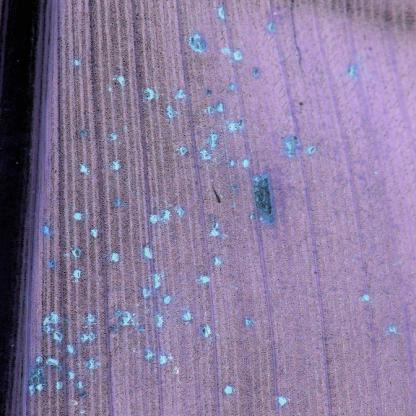Corn rust leaf: (6, 1, 415, 410)
